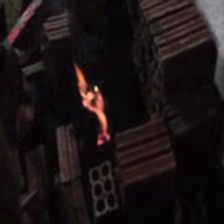fire: (67, 57, 125, 157)
